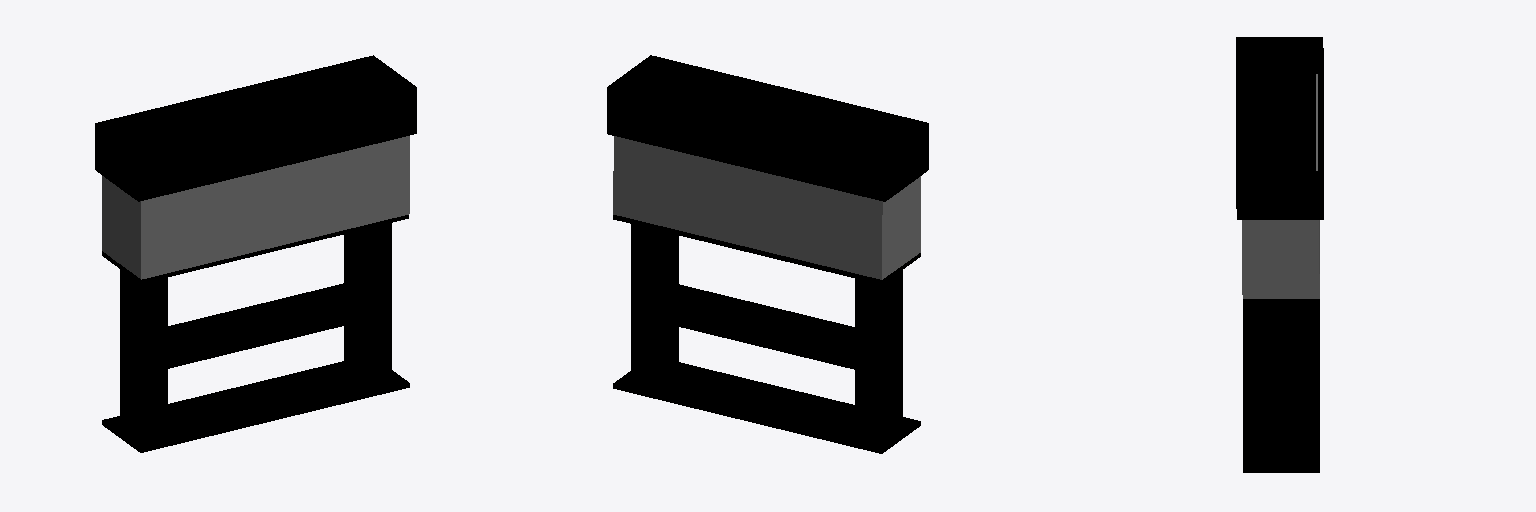
File: aquarium.obj
3 renders of one model, left to right at view 1: azimuth 30°, elevation 25°; view 2: azimuth 150°, elevation 25°; view 3: azimuth 270°, elevation 25°, orthographic.
Visible parts, largest first — view 1: sweethome3d_window_pane_8, Cube_5_9, Cube_1_3_13, Cube_1_1_3, Cube_1_2_7, Cube_3_1_6, Cube_2_2, Cube_3_5, Cube_6_11, Cube_1_1, Cube_5_1_10, Cube_2_1_4; view 2: sweethome3d_window_pane_8, Cube_5_1_10, Cube_1_3_13, Cube_1_1_3, Cube_1_2_7, Cube_3_1_6, Cube_2_2, Cube_3_5, Cube_6_11, Cube_1_1, Cube_5_9, Cube_2_1_4; view 3: Cube_3_1_6, Cube_1_3_13, sweethome3d_window_pane_8, Cube_6_1_12, Cube_1_1_3, Cube_5_9, Cube_5_1_10, Cube_2_1_4.
Part boxes in pixels (left/top/right/bottom): sweethome3d_window_pane_8: left=102, top=136, right=409, bottom=279; Cube_5_9: left=136, top=85, right=416, bottom=201; Cube_1_3_13: left=104, top=60, right=408, bottom=151; Cube_1_1_3: left=102, top=361, right=409, bottom=452; Cube_1_2_7: left=168, top=283, right=381, bottom=368; Cube_3_1_6: left=344, top=224, right=386, bottom=388; Cube_2_2: left=120, top=269, right=144, bottom=434; Cube_3_5: left=145, top=278, right=167, bottom=442; Cube_6_11: left=97, top=124, right=139, bottom=199; Cube_1_1: left=102, top=215, right=408, bottom=283; Cube_5_1_10: left=95, top=55, right=375, bottom=170; Cube_2_1_4: left=387, top=223, right=391, bottom=370; sweethome3d_window_pane_8: left=613, top=136, right=920, bottom=279; Cube_5_1_10: left=607, top=85, right=887, bottom=201; Cube_1_3_13: left=616, top=59, right=920, bottom=151; Cube_1_1_3: left=613, top=362, right=920, bottom=453; Cube_1_2_7: left=640, top=284, right=854, bottom=369; Cube_3_1_6: left=636, top=225, right=678, bottom=389; Cube_2_2: left=878, top=270, right=902, bottom=435; Cube_3_5: left=855, top=279, right=877, bottom=443; Cube_6_11: left=884, top=124, right=926, bottom=199; Cube_1_1: left=613, top=215, right=920, bottom=284; Cube_5_9: left=649, top=55, right=928, bottom=170; Cube_2_1_4: left=631, top=224, right=635, bottom=371; Cube_3_1_6: left=1243, top=304, right=1319, bottom=456; Cube_1_3_13: left=1242, top=40, right=1315, bottom=170; sweethome3d_window_pane_8: left=1242, top=74, right=1319, bottom=298; Cube_6_1_12: left=1242, top=171, right=1318, bottom=219; Cube_1_1_3: left=1243, top=457, right=1319, bottom=472; Cube_5_9: left=1236, top=37, right=1241, bottom=219; Cube_5_1_10: left=1318, top=37, right=1323, bottom=219; Cube_2_1_4: left=1279, top=304, right=1283, bottom=467.
Bounding box in the file's own units: 124 × 129 × 33.97.